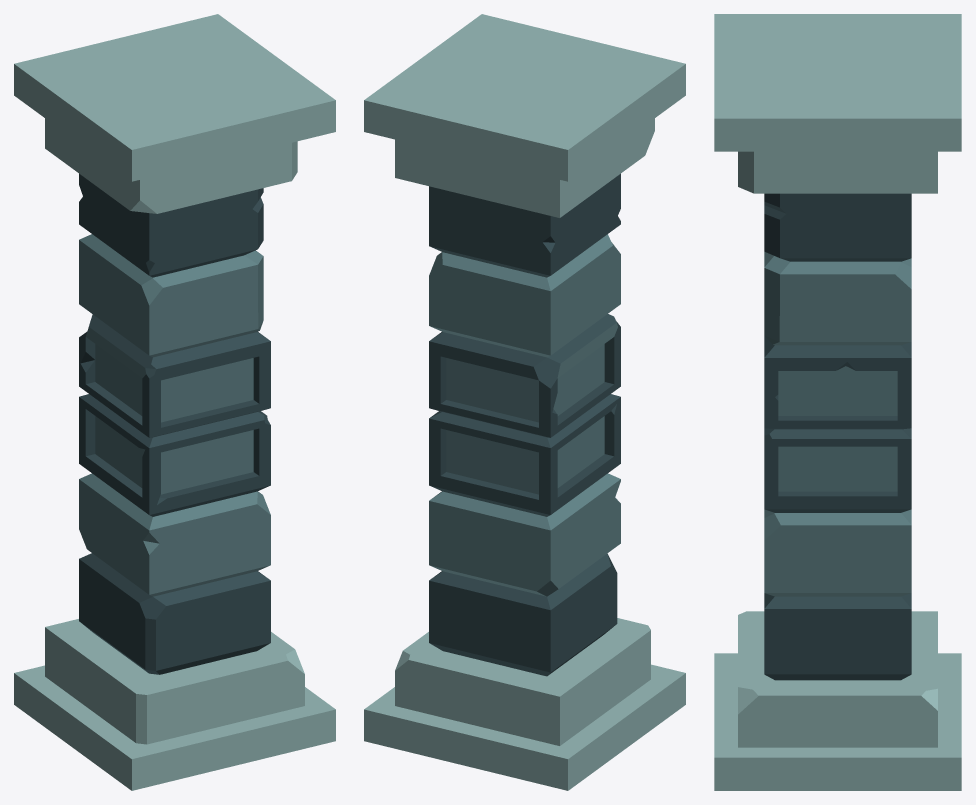
The model's file is Pillar 1.glb.
3 views of the same model, side by side, from view 1: azimuth 30°, elevation 25°; view 2: azimuth 150°, elevation 25°; view 3: azimuth 270°, elevation 25° (orthographic). The views are drawn at different scales.
Visible parts, largest first — view 1: Pillar 1; view 2: Pillar 1; view 3: Pillar 1.
Boxes of the visible parts, x1=… form: Pillar 1: x1=14, y1=14, x2=335, y2=790; Pillar 1: x1=364, y1=14, x2=685, y2=790; Pillar 1: x1=714, y1=14, x2=961, y2=790.
Bounding box in the file's own units: 1 × 3 × 1.
1 material, 1 textured.
